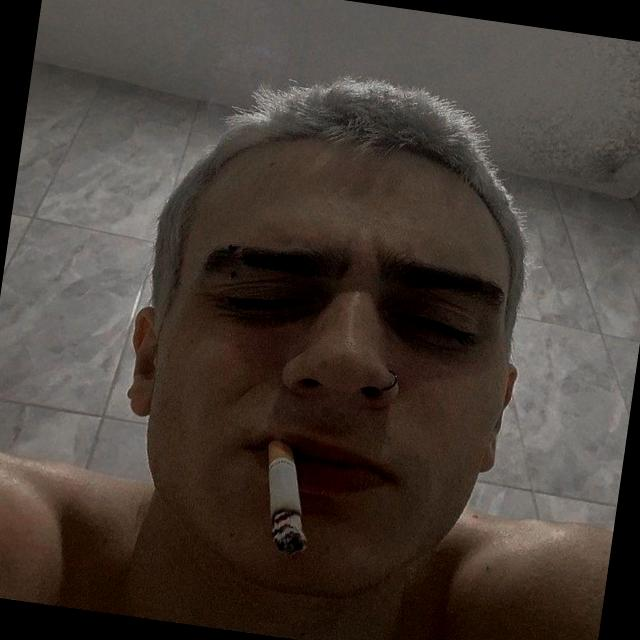cigarette: (240, 418, 329, 566)
